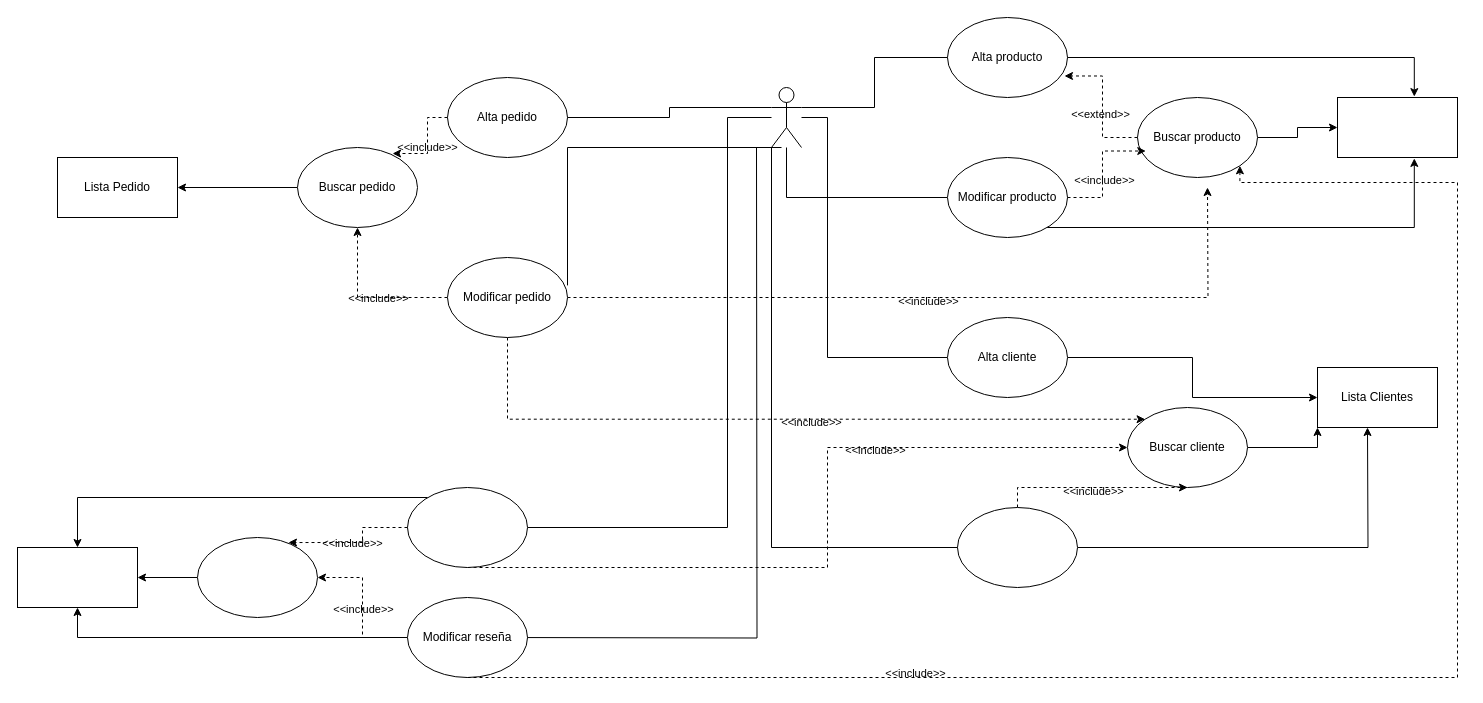
Image size: 1483x703. Some labels were removed from this diagram. The shapes that lost their labels are listed below. From the top down, each one's centre as x and y in pixels, then its label:
(x=786, y=117): Administrador
(x=1397, y=127): Lista Productos
(x=467, y=527): Alta reseña
(x=1017, y=547): Modifica cliente
(x=77, y=577): Lista Reseña
(x=257, y=577): Buscar reseña
